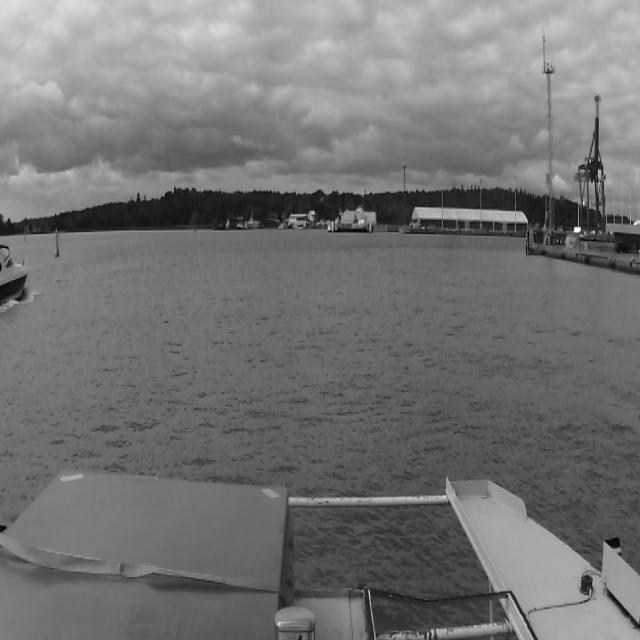buoy: (54, 227, 60, 257), (192, 224, 196, 234)
ship: (0, 243, 27, 312), (212, 220, 236, 232), (236, 218, 254, 230)
